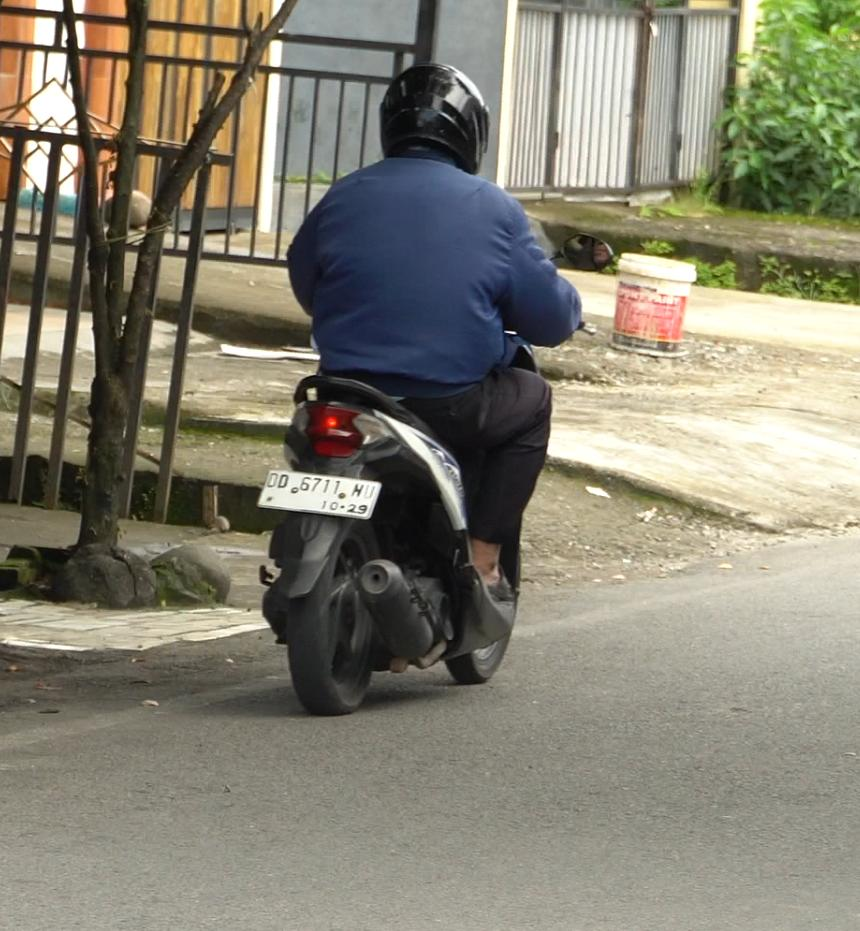number-plate: (253, 462, 384, 523)
